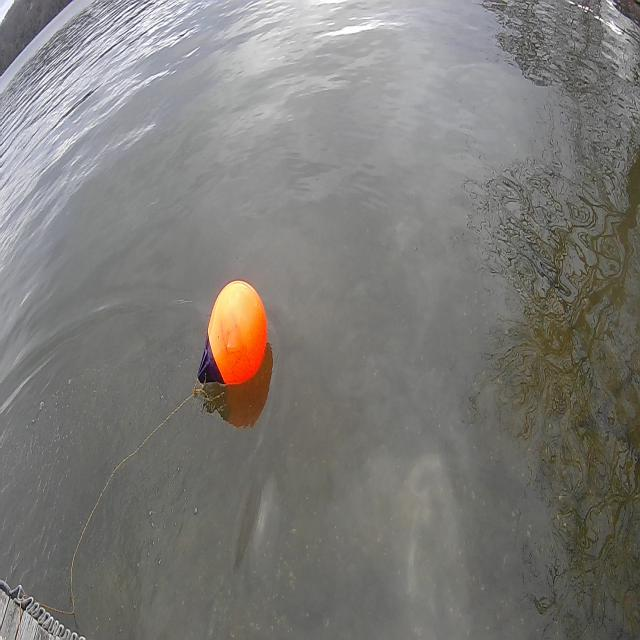Buoy: (208, 280, 269, 387)
